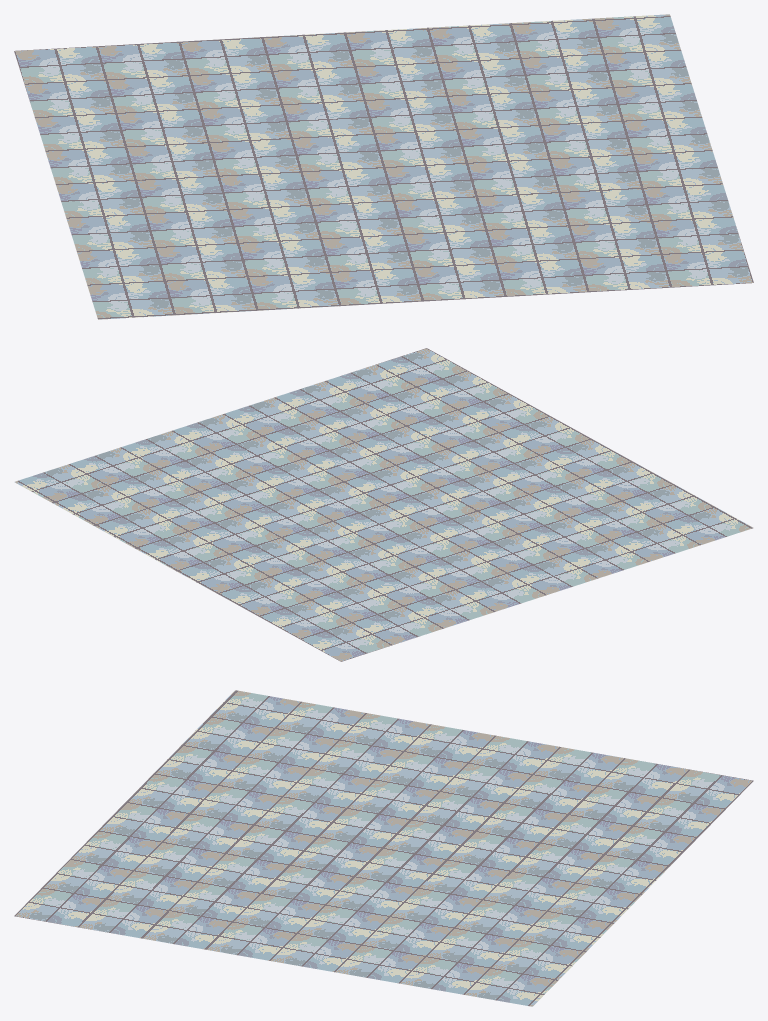
The model's file is kd_stage_135ebf_0_34_bounded.glb.
3 views of the same model, one above another, from view 1: azimuth 30°, elevation 25°; view 2: azimuth 150°, elevation 25°; view 3: azimuth 270°, elevation 25° (orthographic). The views are drawn at different scales.
Parts seen in each view (by area): view 1: kd_stage_135ebf_0_34_bounded; view 2: kd_stage_135ebf_0_34_bounded; view 3: kd_stage_135ebf_0_34_bounded.
Part boxes in pixels (bbox=[...]): kd_stage_135ebf_0_34_bounded: bbox=[14, 14, 753, 319]; kd_stage_135ebf_0_34_bounded: bbox=[14, 348, 753, 661]; kd_stage_135ebf_0_34_bounded: bbox=[14, 690, 753, 1006].
Size of the model in its own units: 4.65 by 0.000541 by 4.59.
1 material, 1 textured.
